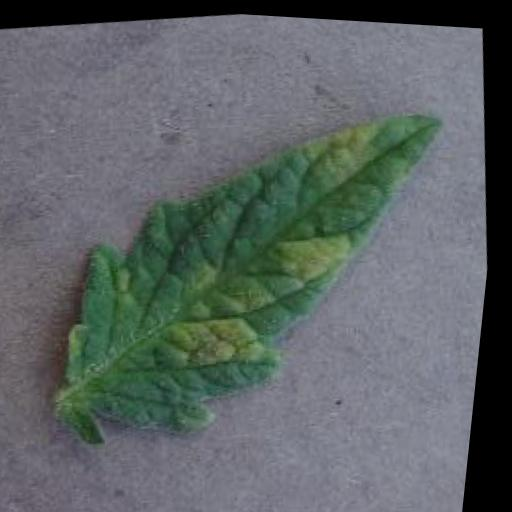Leaf Mold: (37, 93, 483, 465)
